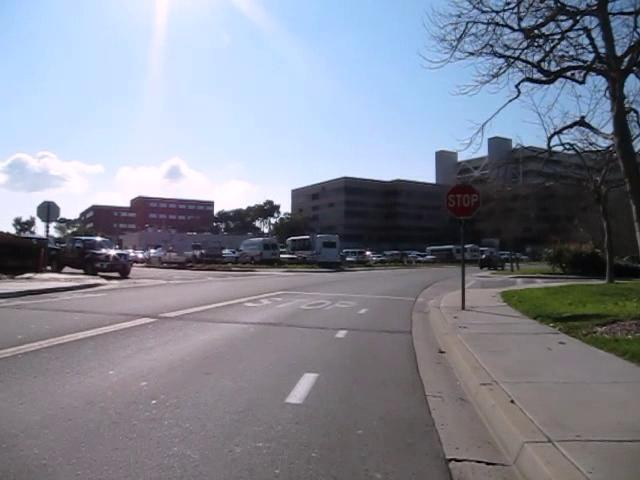stop: (444, 181, 482, 220)
